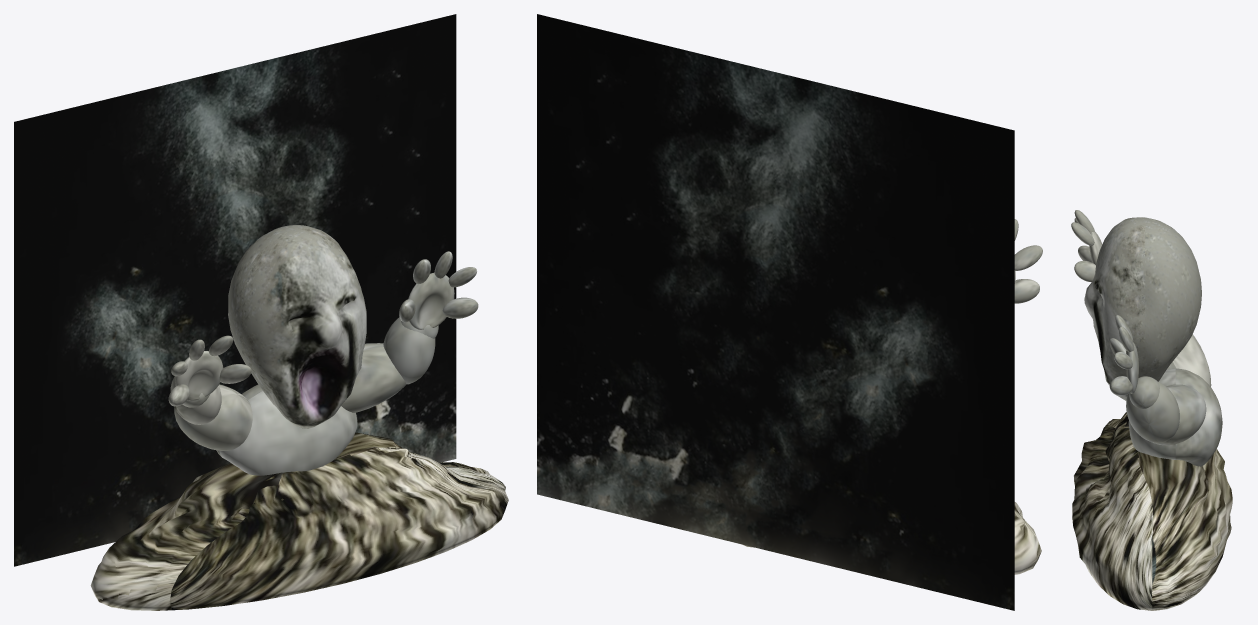
File: ash_baby.glb
3 views of the same model, side by side, from view 1: azimuth 30°, elevation 25°; view 2: azimuth 150°, elevation 25°; view 3: azimuth 270°, elevation 25° (orthographic). The views are drawn at different scales.
Parts seen in each view (by area): view 1: Ash backround, Sphere; view 2: Ash backround, Sphere; view 3: Sphere.
Part boxes in pixels (bbox=[...]): Ash backround: bbox=[14, 14, 456, 566]; Sphere: bbox=[90, 225, 508, 610]; Ash backround: bbox=[537, 14, 1014, 610]; Sphere: bbox=[742, 219, 1042, 574]; Sphere: bbox=[1071, 210, 1232, 610].
Size of the model in its own units: 6.59 by 6.45 by 2.47.
Materials: 3 (3 with a texture image).
